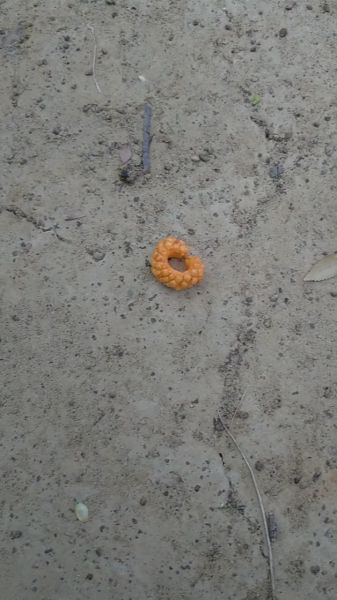eggs: (143, 229, 209, 287)
